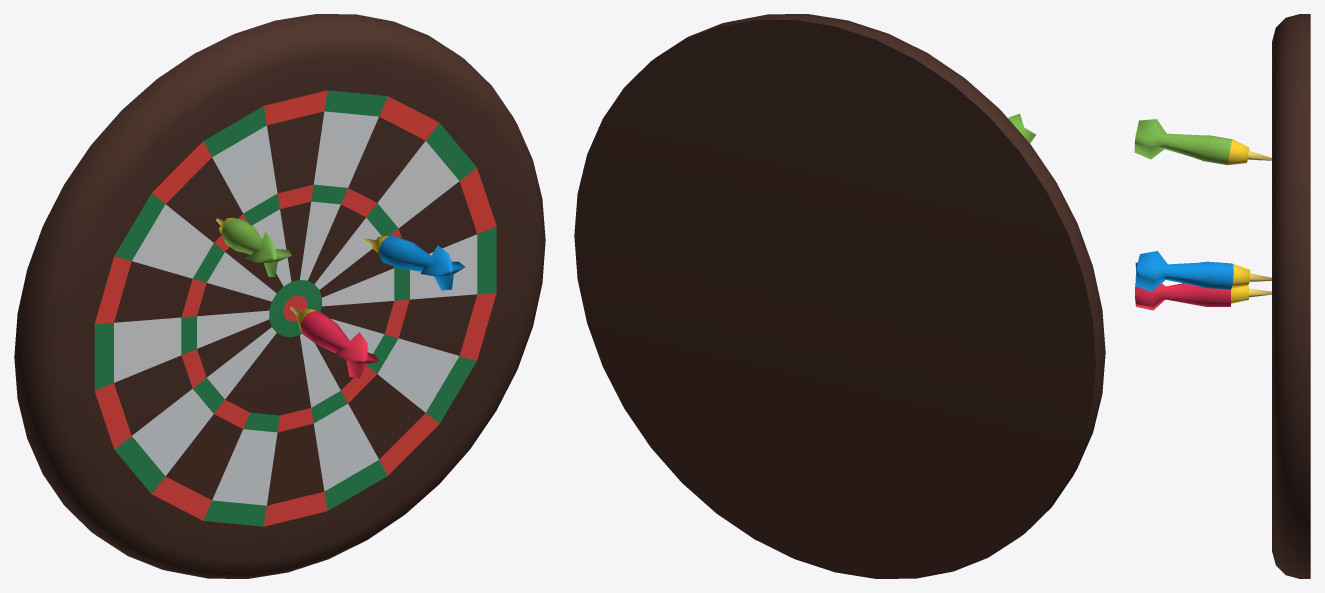
The model's file is Darts_01.glb.
The picture shows the model from 3 angles, left to right: view 1: azimuth 30°, elevation 25°; view 2: azimuth 150°, elevation 25°; view 3: azimuth 270°, elevation 25°; orthographic projection. The views are drawn at different scales.
Visible parts, largest first — view 1: Darts_01; view 2: Darts_01; view 3: Darts_01.
Boxes of the visible parts, box(x1,y1,x2,y2) form: Darts_01: box(14, 14, 545, 578); Darts_01: box(574, 14, 1105, 578); Darts_01: box(1134, 14, 1310, 578).
Size of the model in its own units: 0.5571 by 0.5571 by 0.1735.
1 material, 1 textured.
